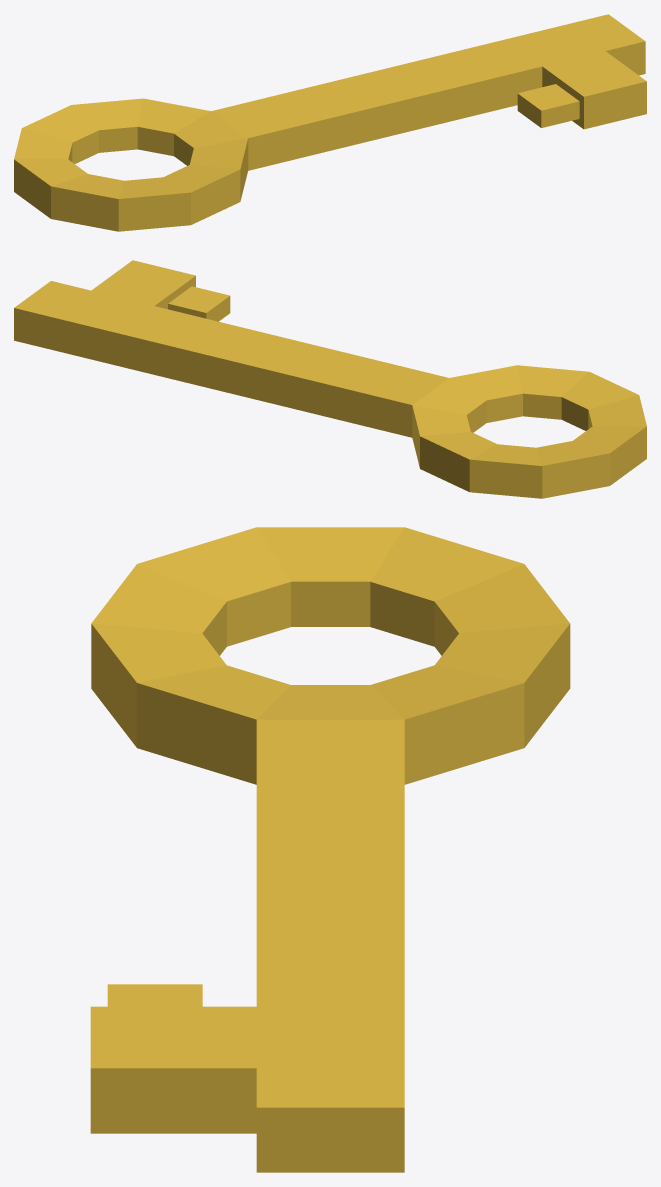
Rendered from key.fbx.
The picture shows the model from 3 angles, top to bottom: view 1: azimuth 30°, elevation 25°; view 2: azimuth 150°, elevation 25°; view 3: azimuth 270°, elevation 25°; orthographic projection. The views are drawn at different scales.
Visible parts, largest first — view 1: Circle.005; view 2: Circle.005; view 3: Circle.005.
Part boxes in pixels (bbox=[...]): Circle.005: bbox=[14, 14, 646, 231]; Circle.005: bbox=[14, 260, 646, 498]; Circle.005: bbox=[90, 527, 570, 1172].
Size of the model in its own units: 139 by 7.27 by 48.39.
